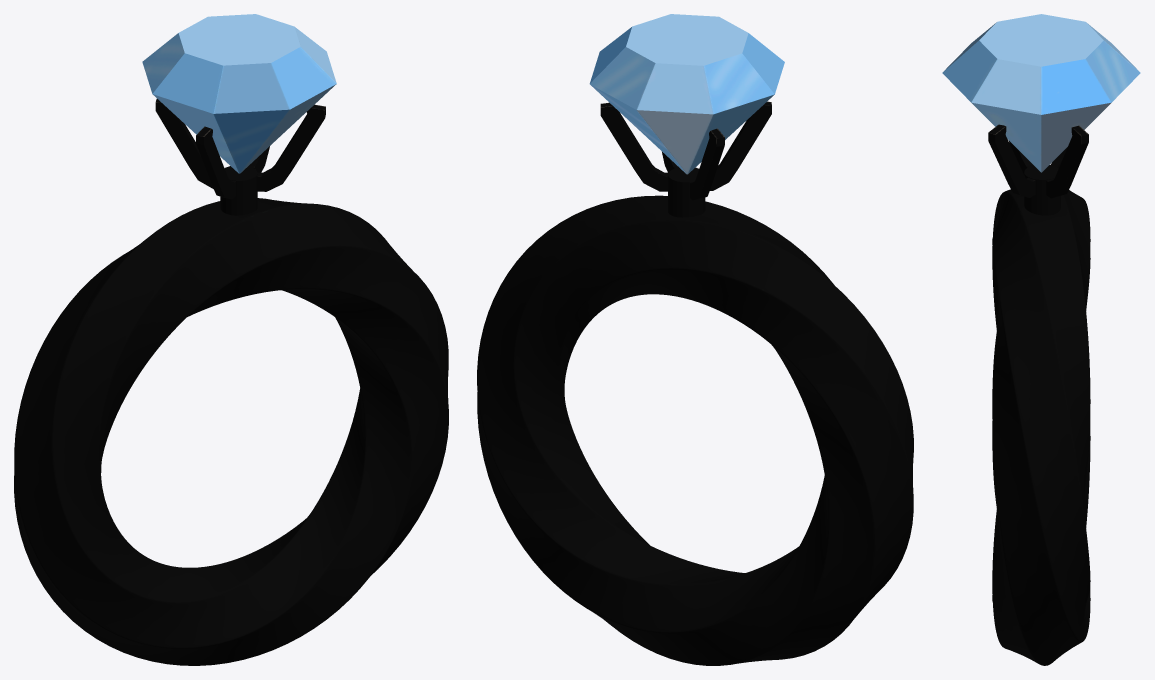
The model's file is anillo.glb.
3 renders of one model, left to right at view 1: azimuth 30°, elevation 25°; view 2: azimuth 150°, elevation 25°; view 3: azimuth 270°, elevation 25°, orthographic.
Visible parts, largest first — view 1: node_id103, node_id119, node_id111, node_id114, node_id108; view 2: node_id103, node_id119, node_id114, node_id111, node_id108; view 3: node_id103, node_id119, node_id114, node_id111, node_id108.
Part boxes in pixels (x1,y1,x2,y2): node_id103: [14, 198, 448, 665]; node_id119: [142, 14, 336, 173]; node_id111: [155, 99, 325, 191]; node_id114: [196, 126, 269, 199]; node_id108: [220, 166, 257, 215]; node_id103: [477, 195, 913, 665]; node_id119: [589, 14, 784, 174]; node_id114: [600, 101, 771, 191]; node_id111: [662, 128, 724, 200]; node_id108: [668, 167, 705, 217]; node_id103: [992, 189, 1090, 665]; node_id119: [942, 14, 1140, 172]; node_id114: [1008, 125, 1088, 198]; node_id111: [988, 124, 1067, 197]; node_id108: [1024, 165, 1060, 215].
Bounding box in the file's own units: 0.3599 × 0.4853 × 0.1453.
Materials: 5 (5 with a texture image).
